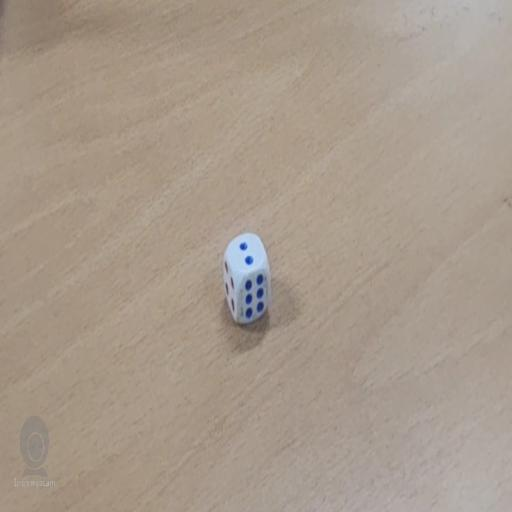dice_2: (222, 232, 273, 329)
